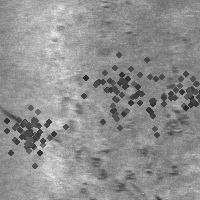rolled-in_scale: (73, 37, 183, 147), (49, 89, 136, 193), (0, 91, 68, 175), (160, 66, 192, 175), (159, 63, 200, 119), (97, 1, 137, 44)
